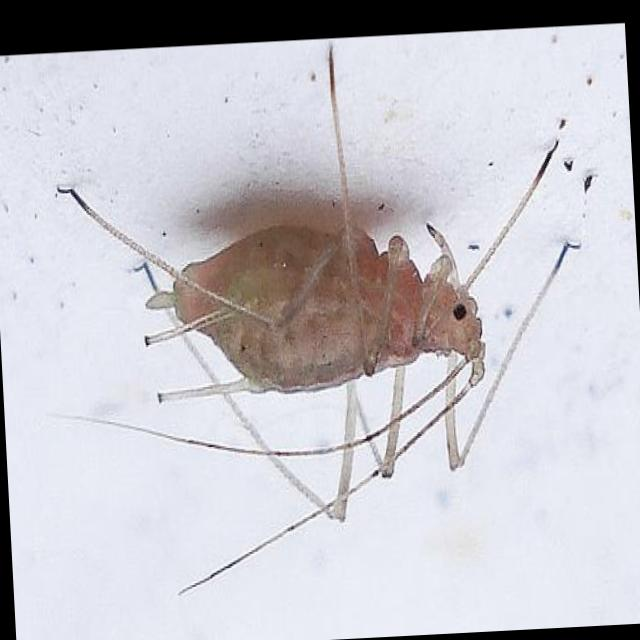Aphid: (21, 21, 623, 613)
